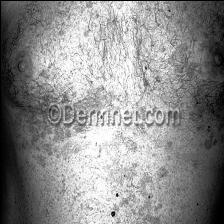Toxin: (118, 132, 132, 154), (205, 134, 215, 150)
